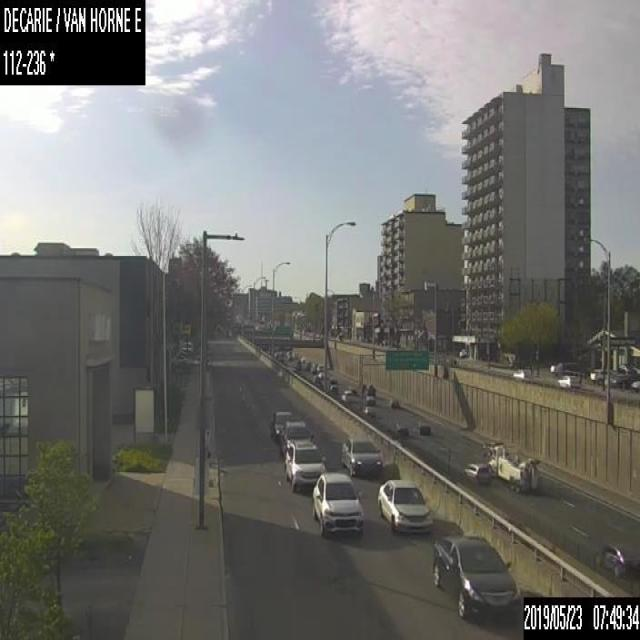vehicle: (432, 529, 522, 619), (310, 471, 363, 536), (478, 434, 538, 490), (376, 476, 433, 532), (284, 437, 325, 489), (340, 435, 382, 476), (596, 540, 639, 576), (279, 418, 313, 458), (269, 408, 292, 437), (463, 462, 489, 482), (549, 360, 576, 376), (554, 372, 582, 387), (590, 368, 612, 383), (361, 390, 375, 404), (395, 424, 407, 439), (513, 367, 531, 377), (418, 421, 430, 436), (361, 405, 377, 416), (341, 390, 353, 402), (362, 383, 375, 394), (390, 396, 400, 407), (631, 380, 639, 390), (329, 384, 337, 394), (316, 362, 323, 372), (459, 347, 465, 357), (317, 371, 323, 379)
